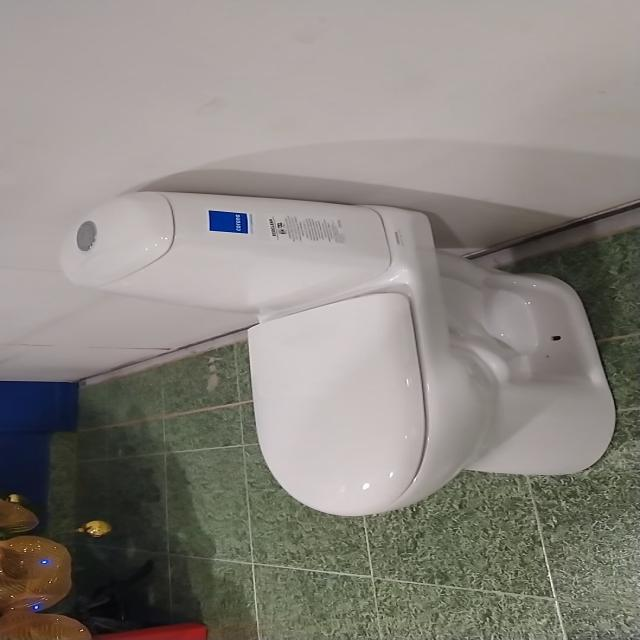toilet: (60, 189, 618, 517)
